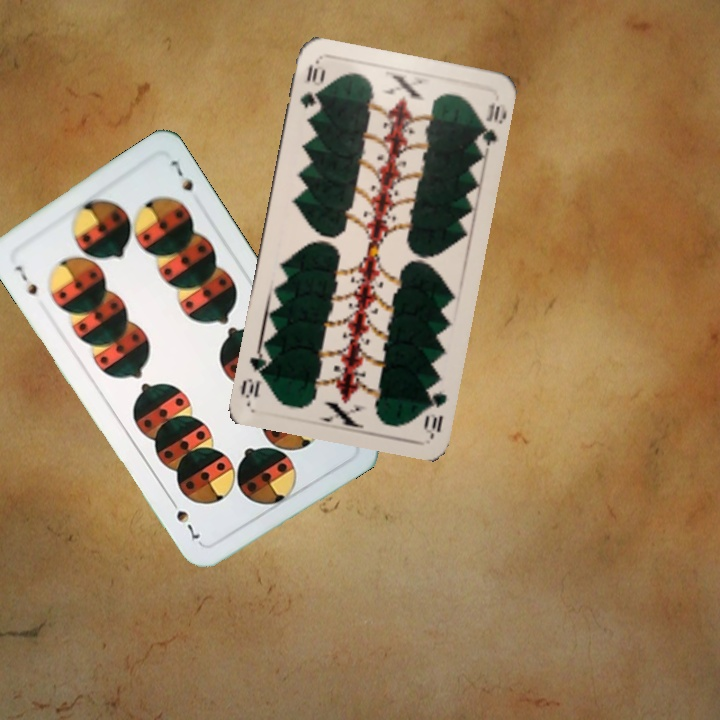G10: (419, 378, 450, 437), (296, 59, 326, 112)
S7: (11, 261, 40, 298)
